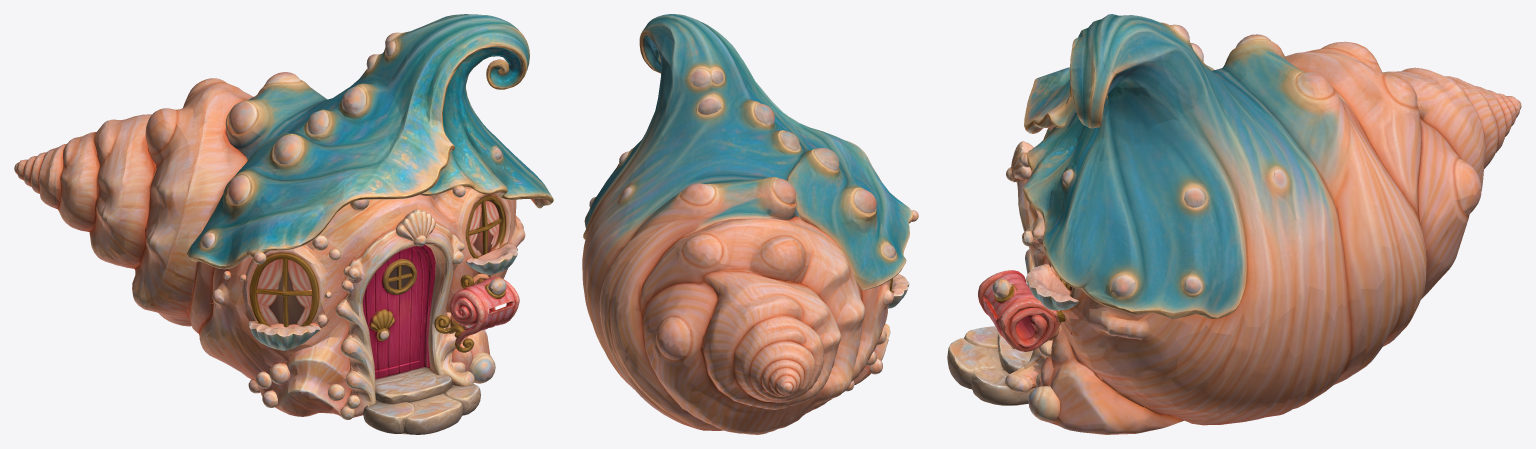
3 views of the same model, side by side, from view 1: azimuth 30°, elevation 25°; view 2: azimuth 150°, elevation 25°; view 3: azimuth 270°, elevation 25° (orthographic). The views are drawn at different scales.
Visible parts, largest first — view 1: output_unwrapped; view 2: output_unwrapped; view 3: output_unwrapped.
Part boxes in pixels (box(x1,y1,x2,y2)): output_unwrapped: box(14, 14, 553, 434); output_unwrapped: box(582, 14, 918, 434); output_unwrapped: box(947, 14, 1521, 434).
Bounding box in the file's own units: 1.66 × 1.49 × 1.9.
1 material, 1 textured.
